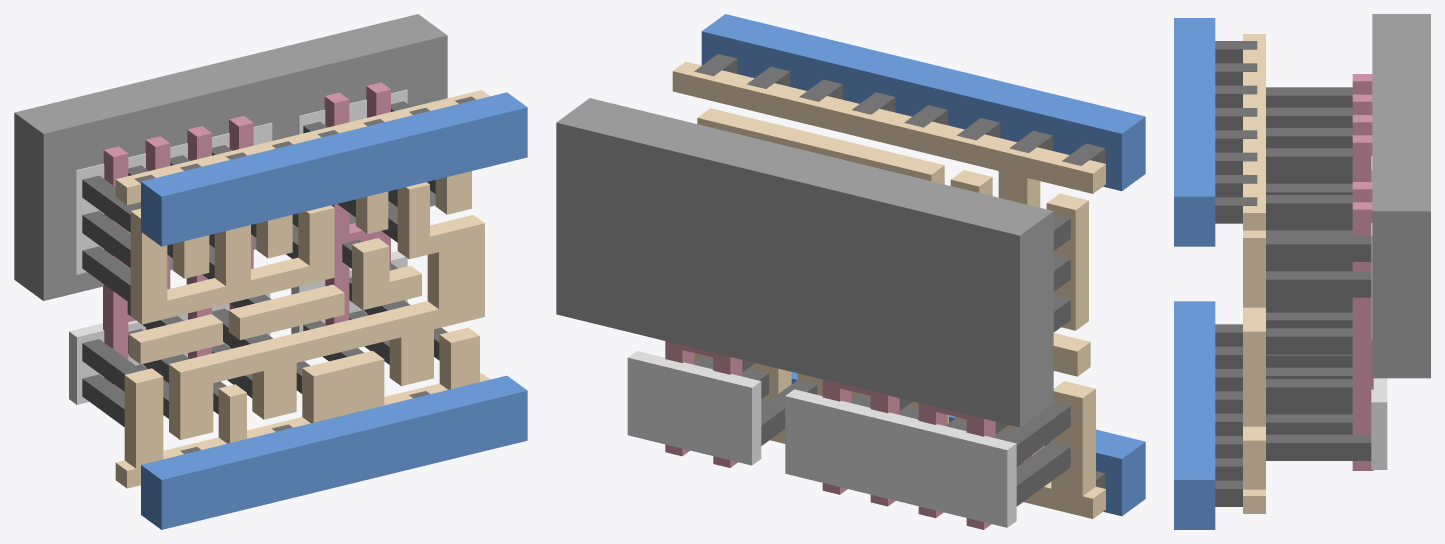
Rendered from sky130_fd_sc_hd__nor3_2.gds.gltf.
3 renders of one model, left to right at view 1: azimuth 30°, elevation 25°; view 2: azimuth 150°, elevation 25°; view 3: azimuth 270°, elevation 25°, orthographic. The views are drawn at different scales.
Visible parts, largest first — view 1: sky130_fd_sc_hd__nor3_2_li1, sky130_fd_sc_hd__nor3_2_met1, sky130_fd_sc_hd__nor3_2_nwell, sky130_fd_sc_hd__nor3_2_licon, sky130_fd_sc_hd__nor3_2_poly, sky130_fd_sc_hd__nor3_2_diff, sky130_fd_sc_hd__nor3_2_mcon; view 2: sky130_fd_sc_hd__nor3_2_nwell, sky130_fd_sc_hd__nor3_2_diff, sky130_fd_sc_hd__nor3_2_li1, sky130_fd_sc_hd__nor3_2_met1, sky130_fd_sc_hd__nor3_2_licon, sky130_fd_sc_hd__nor3_2_mcon, sky130_fd_sc_hd__nor3_2_poly; view 3: sky130_fd_sc_hd__nor3_2_licon, sky130_fd_sc_hd__nor3_2_nwell, sky130_fd_sc_hd__nor3_2_met1, sky130_fd_sc_hd__nor3_2_mcon, sky130_fd_sc_hd__nor3_2_li1, sky130_fd_sc_hd__nor3_2_poly, sky130_fd_sc_hd__nor3_2_diff.
Part boxes in pixels (box(x1,y1,x2,y2)): sky130_fd_sc_hd__nor3_2_li1: box(115, 90, 489, 488); sky130_fd_sc_hd__nor3_2_met1: box(141, 92, 527, 529); sky130_fd_sc_hd__nor3_2_nwell: box(14, 14, 447, 300); sky130_fd_sc_hd__nor3_2_licon: box(82, 101, 447, 426); sky130_fd_sc_hd__nor3_2_poly: box(103, 82, 390, 392); sky130_fd_sc_hd__nor3_2_diff: box(69, 89, 407, 404); sky130_fd_sc_hd__nor3_2_mcon: box(134, 96, 475, 453); sky130_fd_sc_hd__nor3_2_nwell: box(556, 98, 1053, 427); sky130_fd_sc_hd__nor3_2_diff: box(627, 351, 1016, 527); sky130_fd_sc_hd__nor3_2_li1: box(672, 61, 1105, 518); sky130_fd_sc_hd__nor3_2_met1: box(701, 14, 1145, 516); sky130_fd_sc_hd__nor3_2_licon: box(694, 214, 1070, 506); sky130_fd_sc_hd__nor3_2_mcon: box(694, 54, 1105, 488); sky130_fd_sc_hd__nor3_2_poly: box(665, 341, 995, 529); sky130_fd_sc_hd__nor3_2_licon: box(1266, 87, 1371, 460); sky130_fd_sc_hd__nor3_2_nwell: box(1372, 14, 1430, 378); sky130_fd_sc_hd__nor3_2_met1: box(1174, 18, 1215, 529); sky130_fd_sc_hd__nor3_2_mcon: box(1215, 41, 1257, 506); sky130_fd_sc_hd__nor3_2_li1: box(1243, 34, 1265, 513); sky130_fd_sc_hd__nor3_2_poly: box(1352, 74, 1373, 470); sky130_fd_sc_hd__nor3_2_diff: box(1371, 156, 1387, 469).
Bounding box in the file's own units: 4.06 × 3.2 × 2.24.
